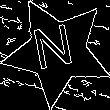N_S: (33, 23, 81, 80)
